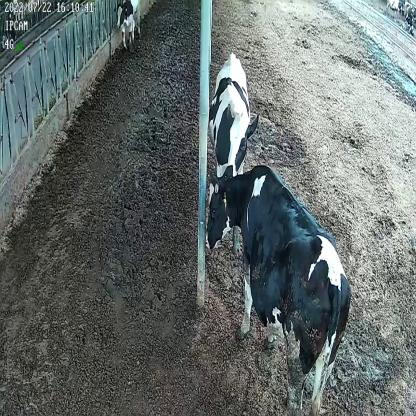cow: (205, 162, 350, 416), (209, 50, 261, 178), (114, 0, 142, 51)
